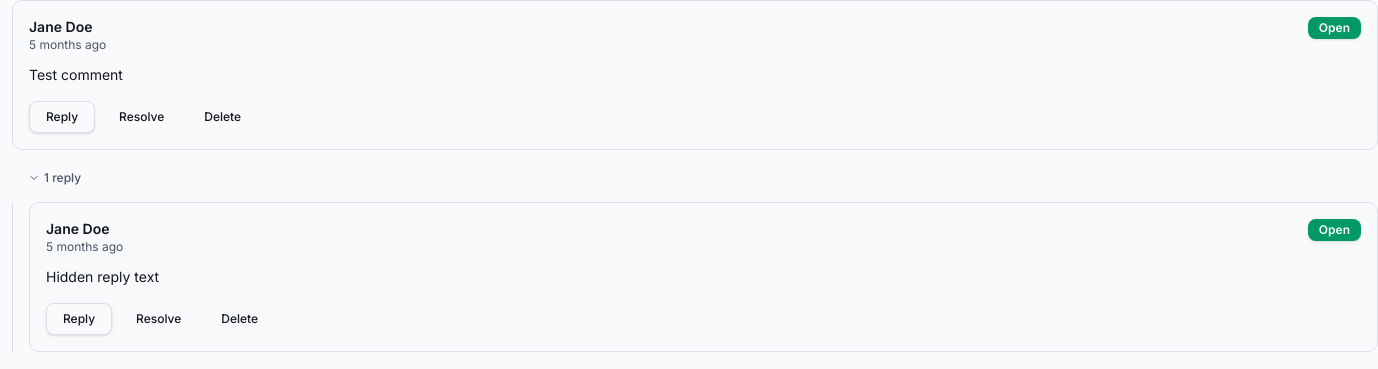
Scenario: CommentItem - Enhanced Features › Collapse/Expand Replies › hides replies when collapsed
The image size is (1378, 369).
Expected: the text "Hidden reply text" is shown, [46,268,159,285]
Click the button "1 reply": (55, 178) [12,162,97,194]
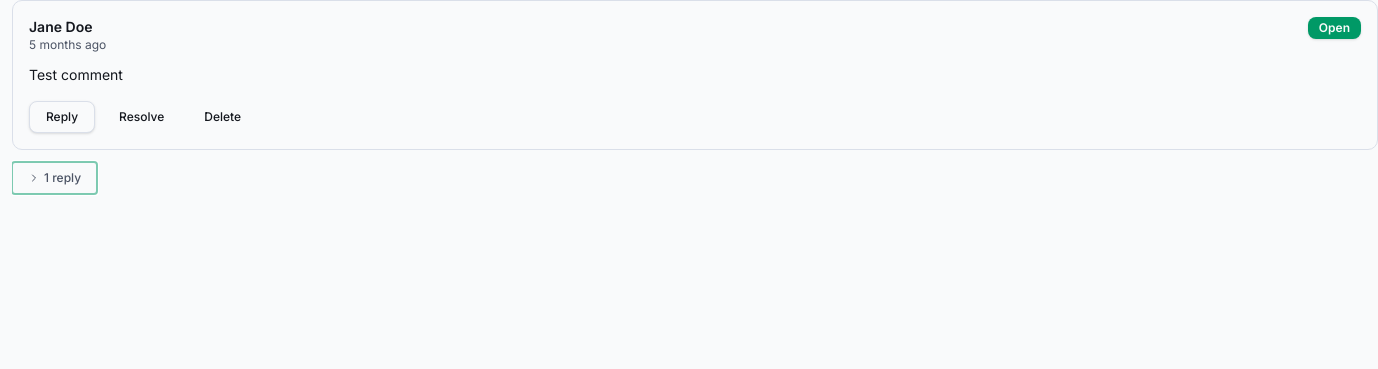
Expected: the text "Hidden reply text" is gone
